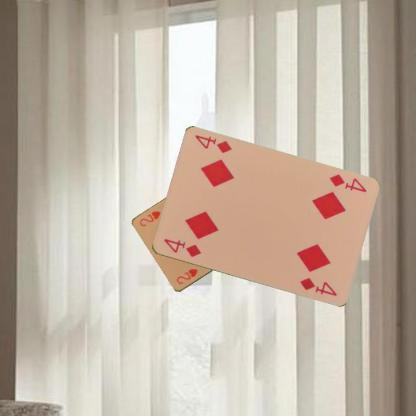2h: (174, 266, 199, 286)
4d: (160, 236, 202, 259), (326, 171, 368, 194)
